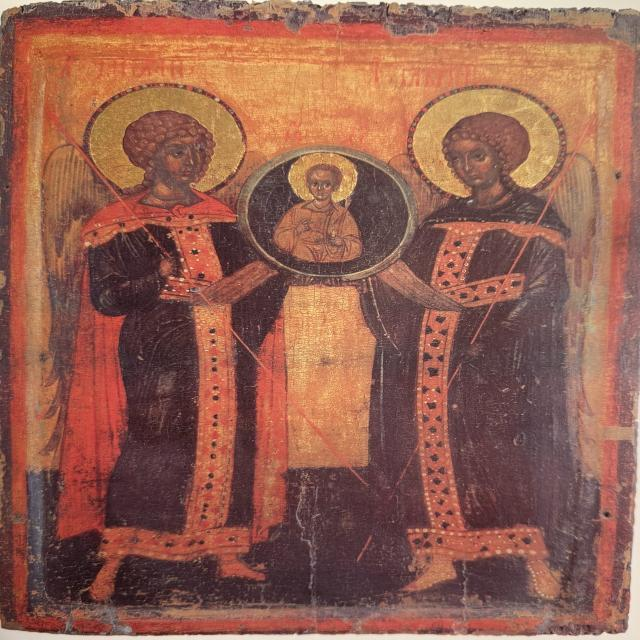angel: (35, 74, 298, 588), (396, 78, 588, 590)
aura: (76, 77, 248, 201), (398, 82, 570, 197), (290, 153, 360, 205)
christ_child: (274, 154, 377, 264)
christ_hand: (285, 217, 322, 243)
wing: (36, 144, 121, 464), (536, 154, 614, 476), (383, 151, 463, 225)
